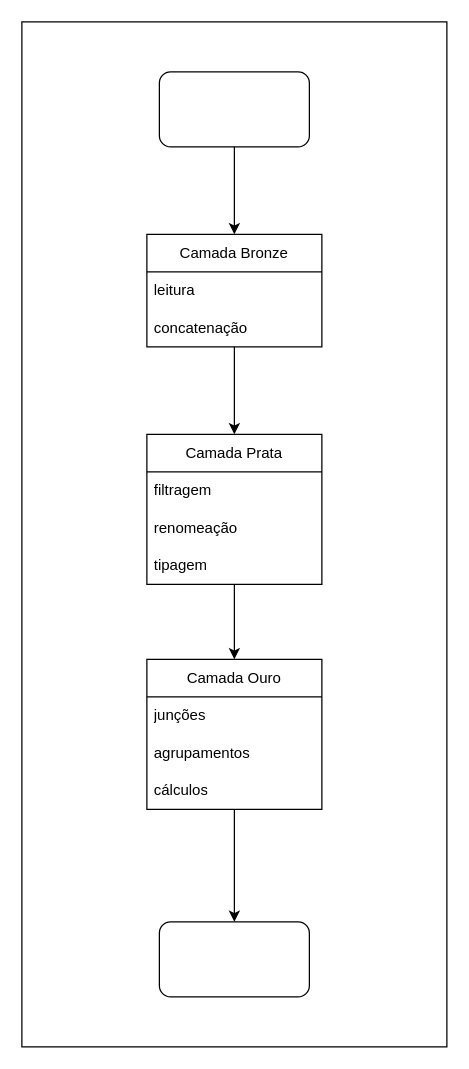
This 469x1069 diagram has some shape labels left out. Each missing label, with the centre of its shape:
Arquivos brutos: point 233,109
Relatórios: point 233,959
